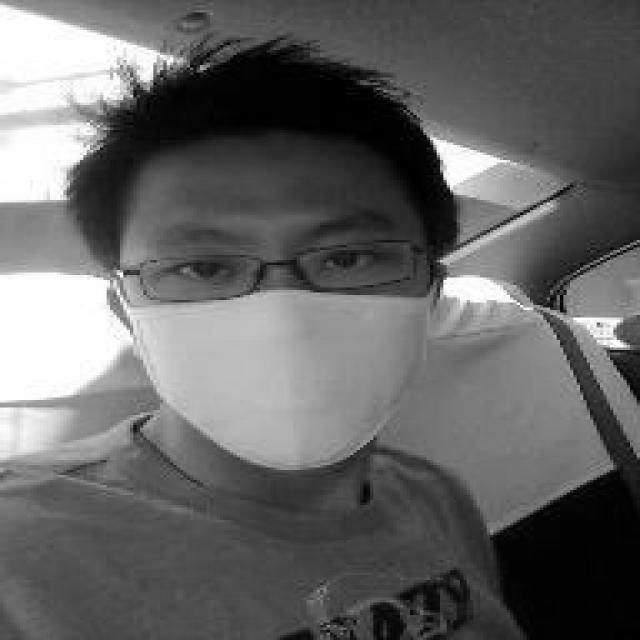real: (120, 149, 432, 468)
